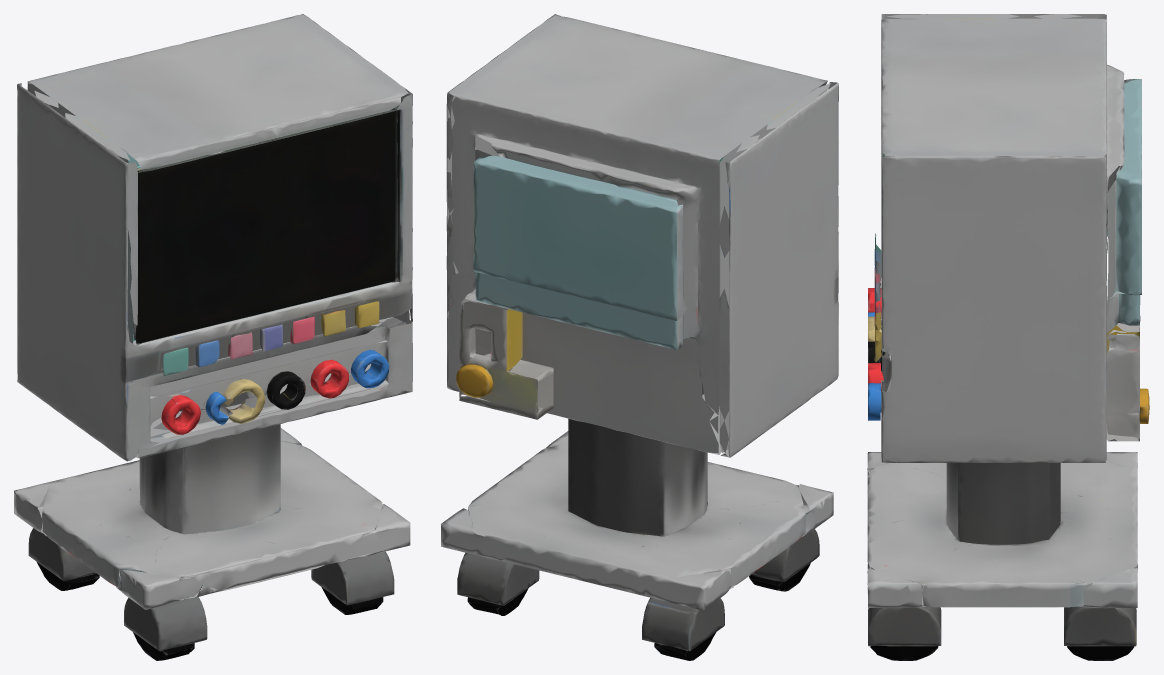
Rendered from ecg-cart.glb.
3 renders of one model, left to right at view 1: azimuth 30°, elevation 25°; view 2: azimuth 150°, elevation 25°; view 3: azimuth 270°, elevation 25°, orthographic. The views are drawn at different scales.
Parts seen in each view (by area): view 1: geometry_0; view 2: geometry_0; view 3: geometry_0.
Boxes of the visible parts, x1=… form: geometry_0: x1=14, y1=14, x2=412, y2=660; geometry_0: x1=441, y1=14, x2=838, y2=660; geometry_0: x1=867, y1=14, x2=1149, y2=660.
Size of the model in its own units: 0.5662 by 0.9583 by 0.4685.
Materials: 1 (1 with a texture image).
